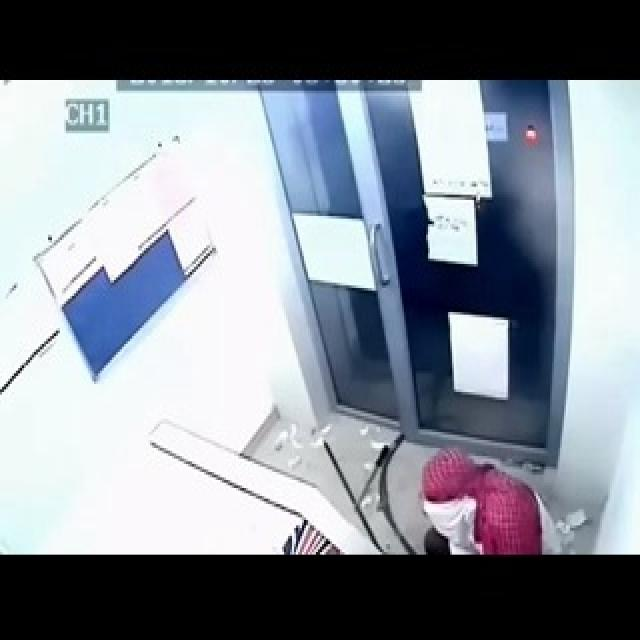thief: (409, 438, 572, 553)
